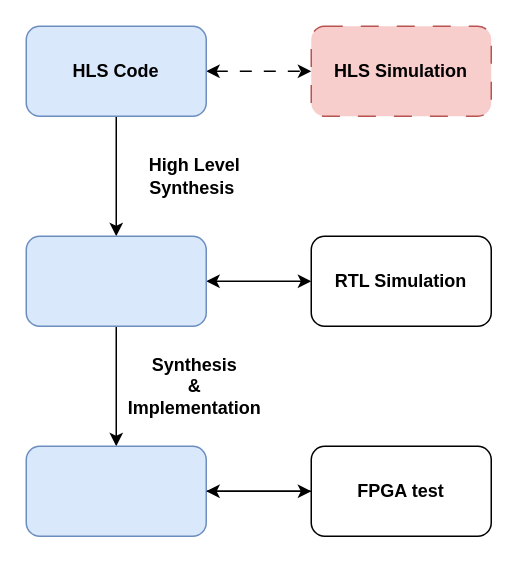
Some shapes in this 518 by 563 pixel diagram are drawn without their labels. Each missing label, with the centre of its shape:
"Bitstream" goes at pixel 115 490.
"RTL" goes at pixel 115 280.
